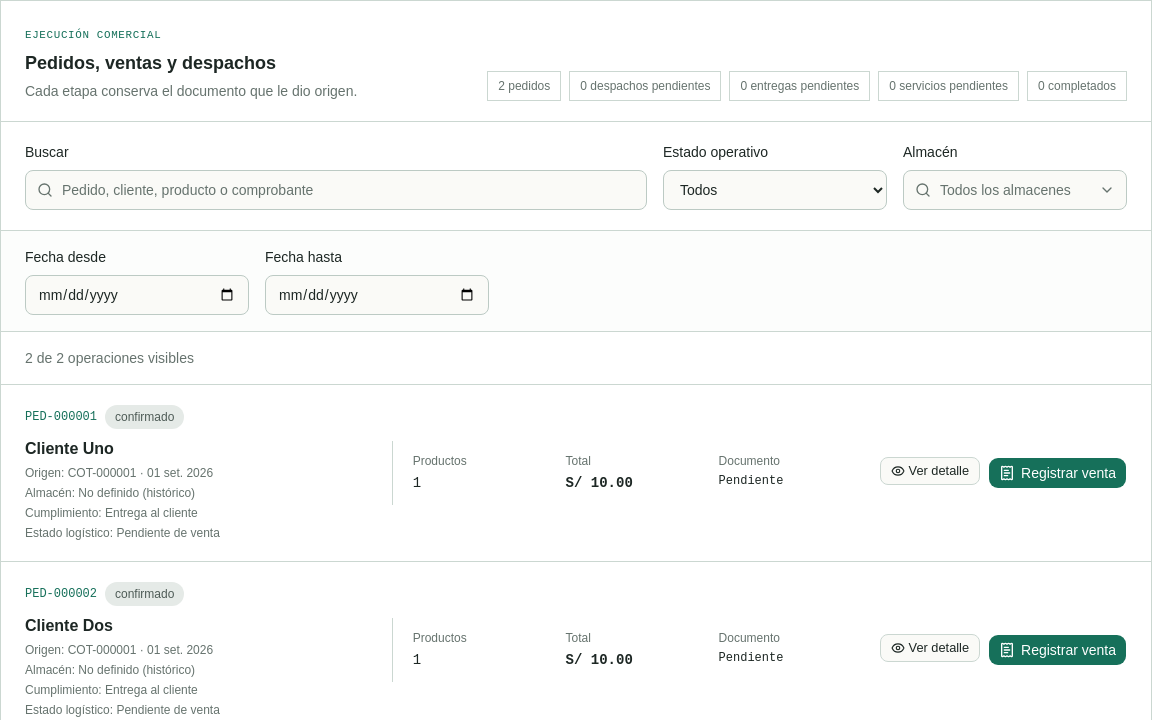
Test: PanelOperacionesVenta › filtra operaciones y abre un detalle de solo lectura
The image size is (1152, 720).
expect the text "2 de 2 operaciones visibles" is shown: met, box [1,332,1151,385]
Step 1. Type "P-1" into the search field labelled "Buscar" → [336, 190], box [25,170,647,210]
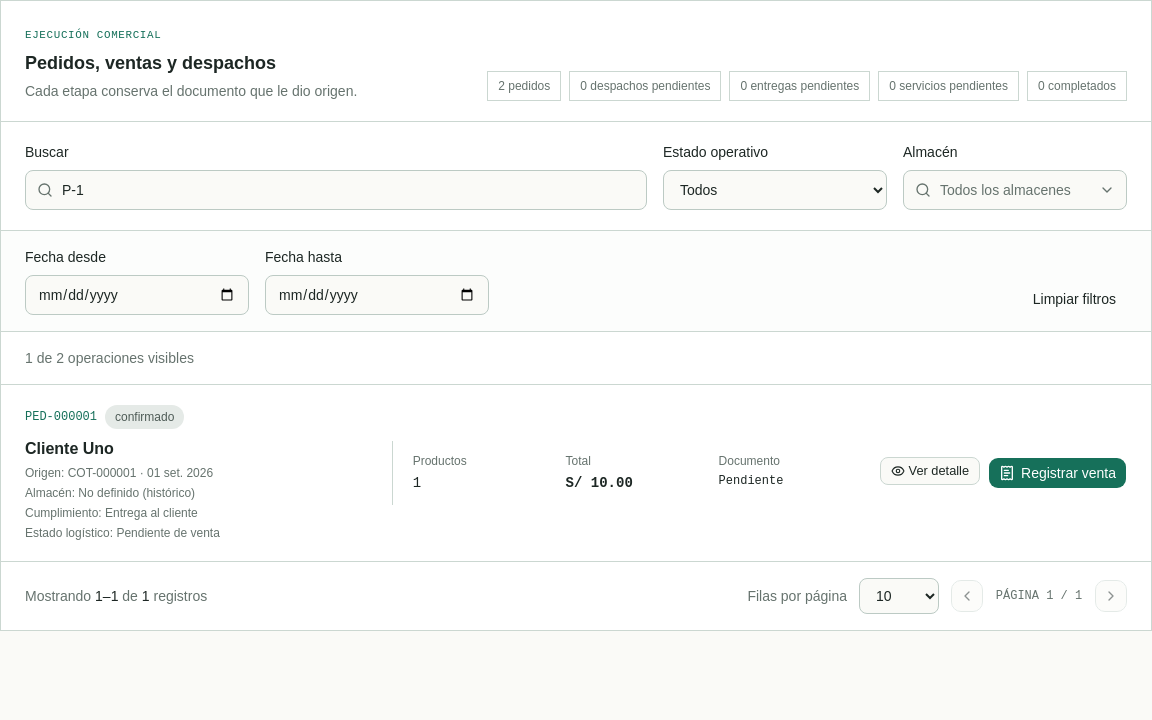
expect the text "1 de 2 operaciones visibles" is shown: met, box [1,332,1151,385]
Step 2. Click the button "Ver detalle" → [930, 471], box [880,457,980,485]
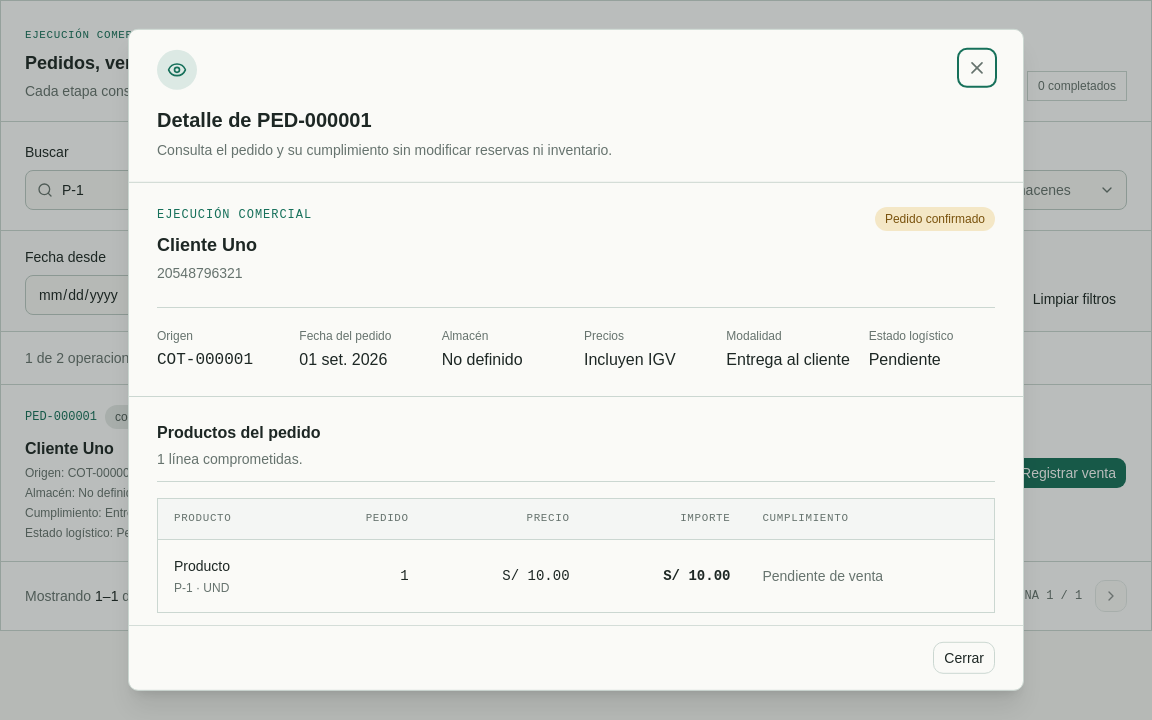
expect the dialog "Detalle de PED-000001" is shown: met
expect the heading "Productos del pedido" is shown: met, box [157,424,321,441]
expect the text "Pendiente de venta" is shown: met, box [746,539,994,611]
